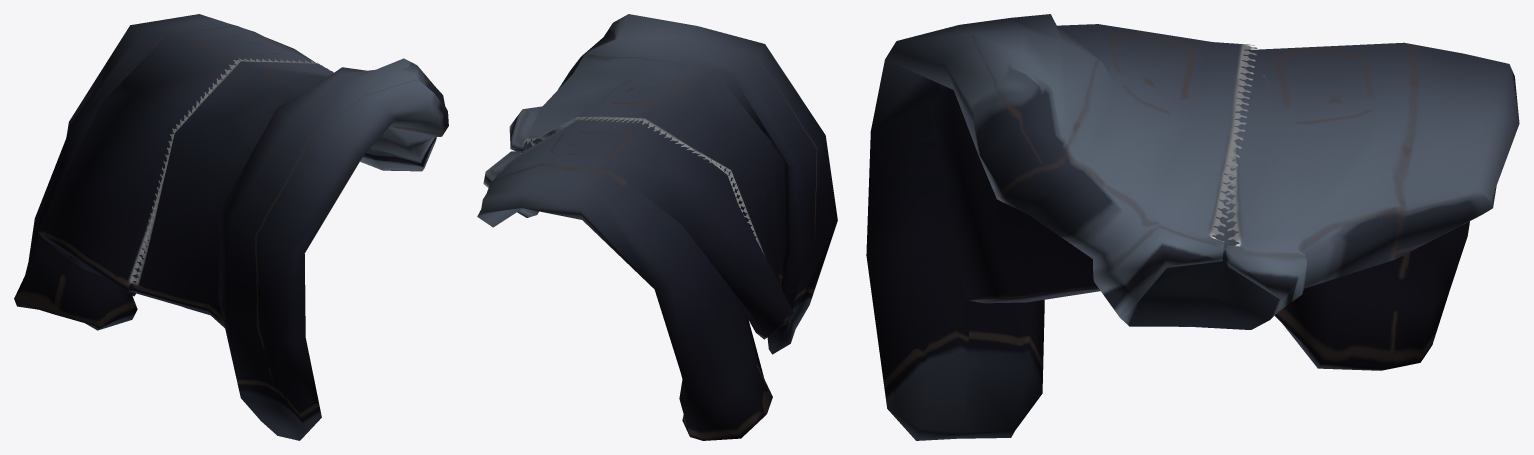
The model's file is mesh_jacket_LOD1_V2fbx.fbx.
The picture shows the model from 3 angles, left to right: view 1: azimuth 30°, elevation 25°; view 2: azimuth 150°, elevation 25°; view 3: azimuth 270°, elevation 25°; orthographic projection. The views are drawn at different scales.
Visible parts, largest first — view 1: jacketbase.001; view 2: jacketbase.001; view 3: jacketbase.001.
Part boxes in pixels (x1,y1,x2,y2): jacketbase.001: (14, 14, 448, 440); jacketbase.001: (477, 14, 837, 440); jacketbase.001: (866, 14, 1519, 440).
Bounding box in the file's own units: 112 × 101 × 122.
